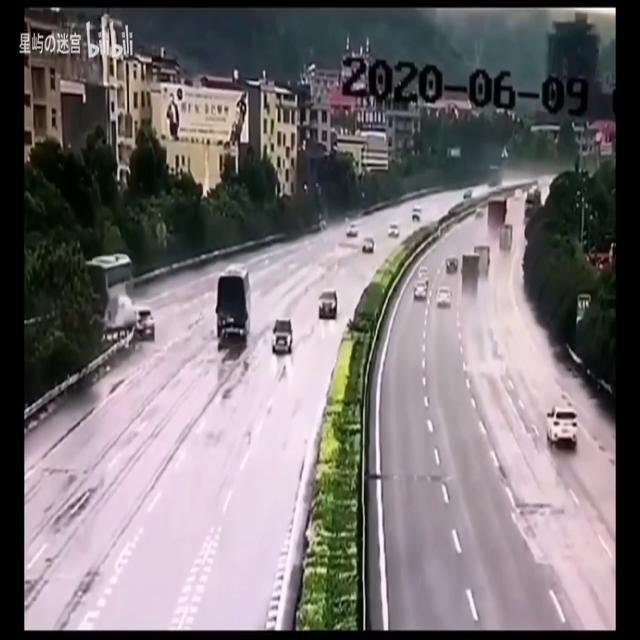accident: (97, 296, 157, 358)
non-accident: (460, 246, 490, 308), (488, 198, 512, 254), (413, 266, 431, 302)
